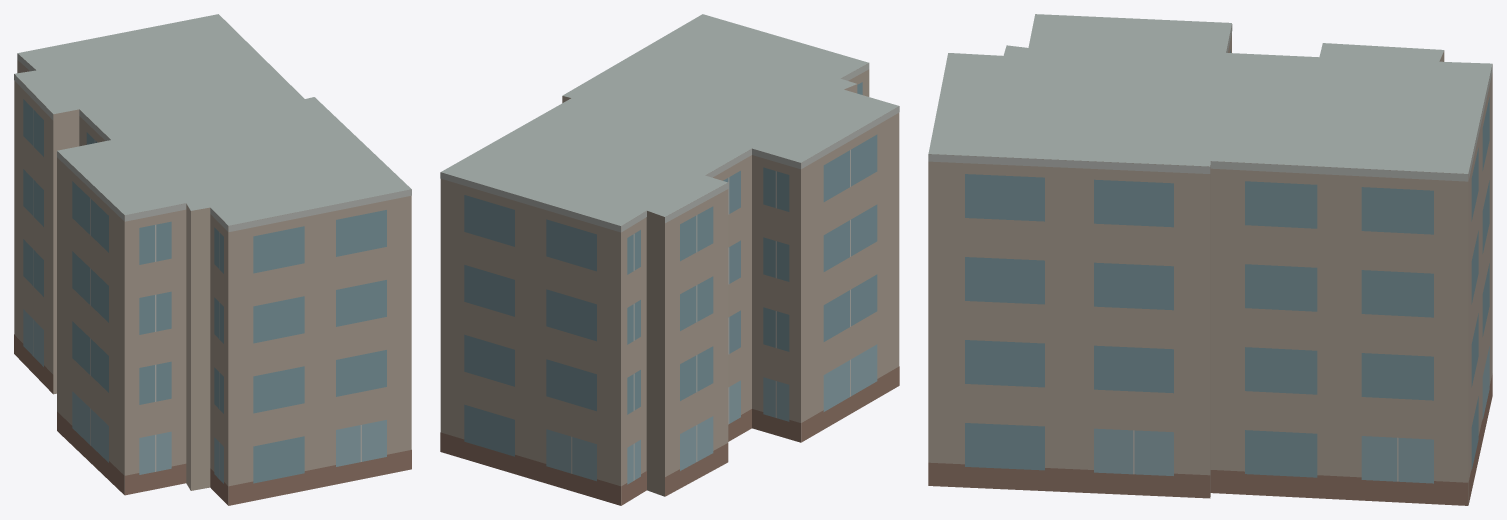
Rendered from survey-upis-32887363.glb.
3 views of the same model, side by side, from view 1: azimuth 30°, elevation 25°; view 2: azimuth 150°, elevation 25°; view 3: azimuth 270°, elevation 25° (orthographic). The views are drawn at different scales.
Parts seen in each view (by area): view 1: survey-upis-32887363.tmp; view 2: survey-upis-32887363.tmp; view 3: survey-upis-32887363.tmp.
Part boxes in pixels (x1,y1,x2,y2): survey-upis-32887363.tmp: (14,14,411,505); survey-upis-32887363.tmp: (440,14,899,505); survey-upis-32887363.tmp: (928,14,1492,505).
Bounding box in the file's own units: 10.97 × 10.6 × 16.34.
